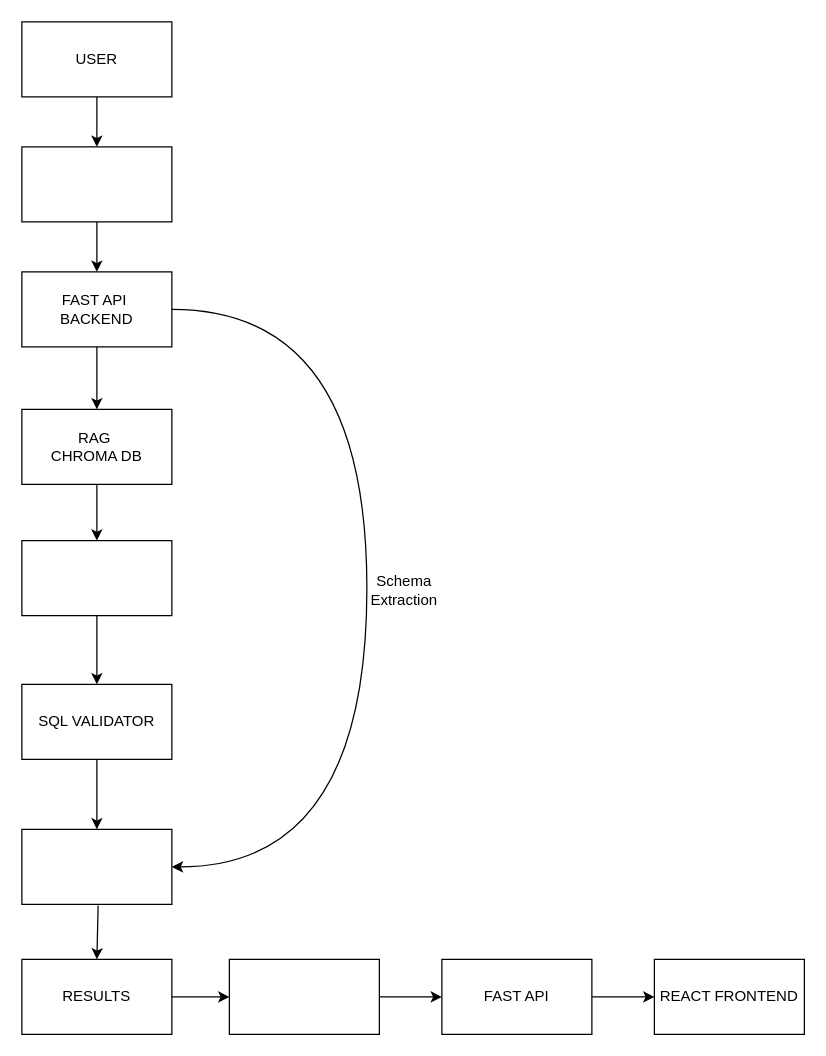
The diagram is 826 pixels wide and 1056 high, and some of its shapes have lost their labels. The centre of each missing label's shape, as x and y in pixels:
"LLM" goes at point 96,577.
"POSTGRESQL" goes at point 303,996.
"POSTGRESQL DATABASE" goes at point 96,866.
"REACT FRONTED" goes at point 96,184.
